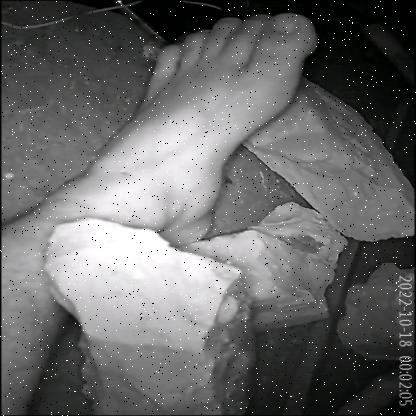leg: (0, 10, 330, 416)
